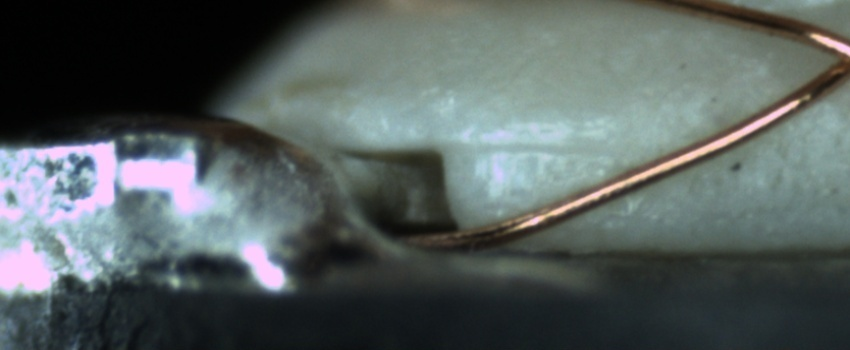CL: (805, 23, 850, 94)
DL: (447, 114, 605, 179)
